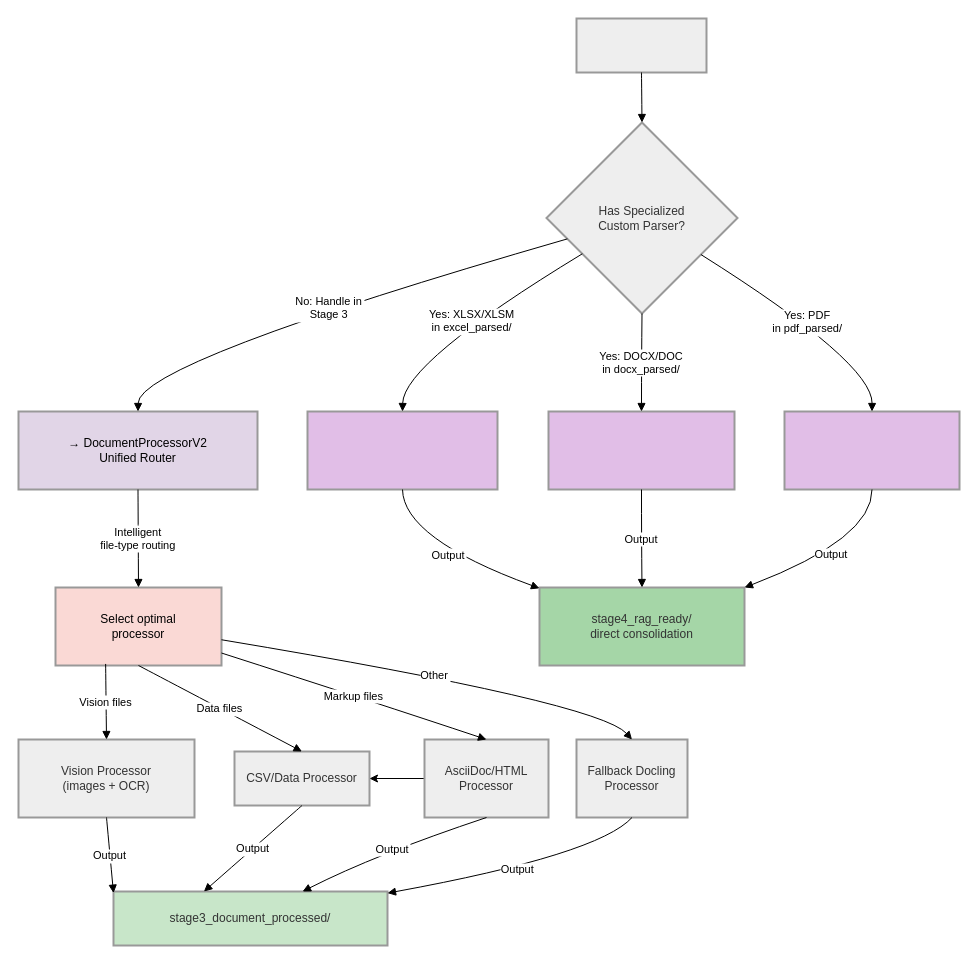
Some shapes in this 977 by 963 pixel diagram are drawn without their labels. The box of each missing label's shape, as (x1, y1, x2, y2) in pixels:
Input File: (575, 17, 707, 73)
→ Stage 3b ExcelPreprocessor: (306, 410, 498, 490)
→ Stage 3c DocxPreprocessor: (547, 410, 735, 490)
→ Stage 3d PdfPreprocessor: (783, 410, 960, 490)
